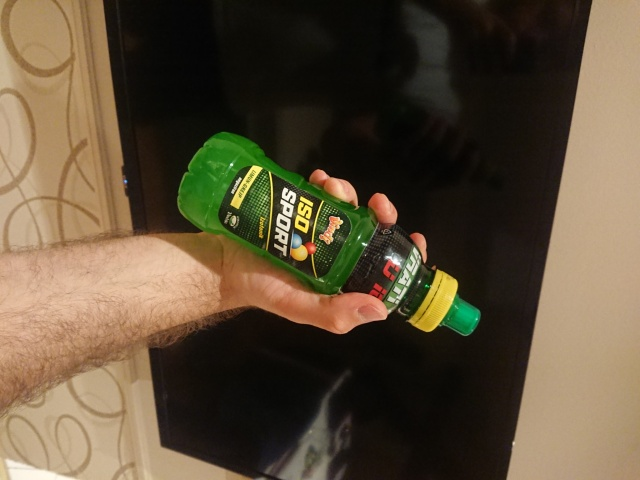Vindi Iso Sport Lemon-Grapefruit 500mL: (173, 128, 484, 339)
